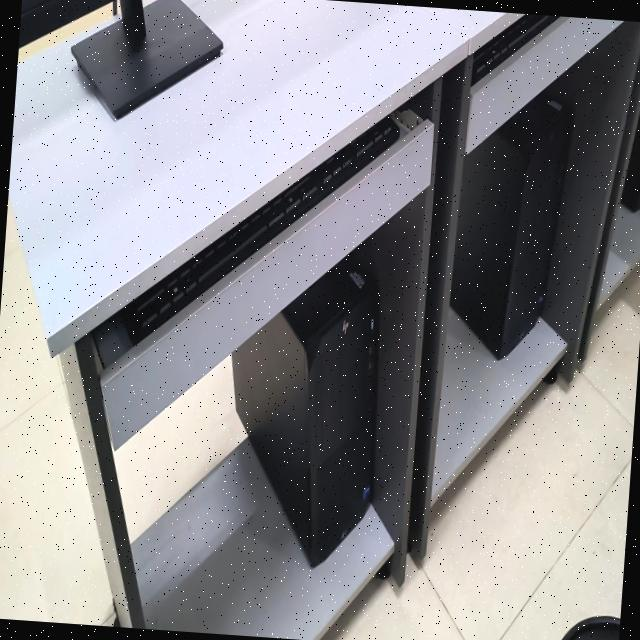Chair: (561, 616, 620, 640)
Cpu: (232, 258, 379, 566), (450, 95, 571, 359), (621, 110, 640, 211)
Keyboard: (118, 114, 399, 346), (471, 13, 559, 85)
Monitor: (18, 0, 116, 47)
